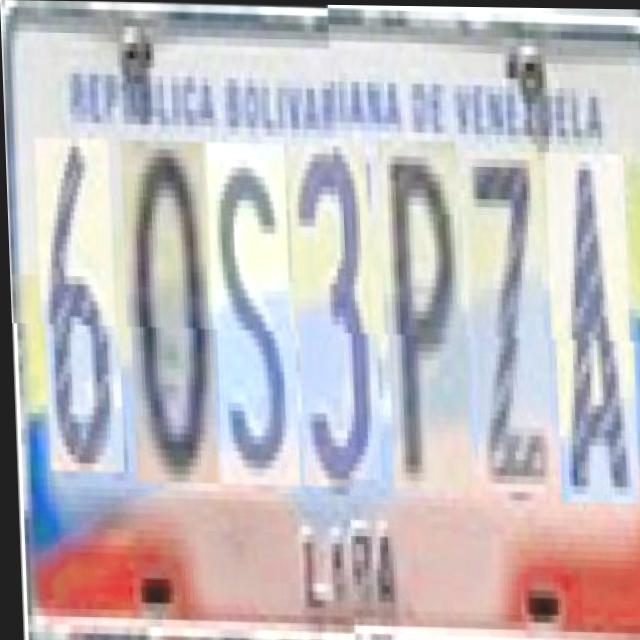3: (290, 143, 379, 486)
6: (38, 137, 121, 472)
a: (548, 157, 637, 507)
o: (123, 139, 215, 483)
p: (380, 145, 469, 497)
s: (209, 142, 297, 485)
z: (467, 155, 550, 498)
